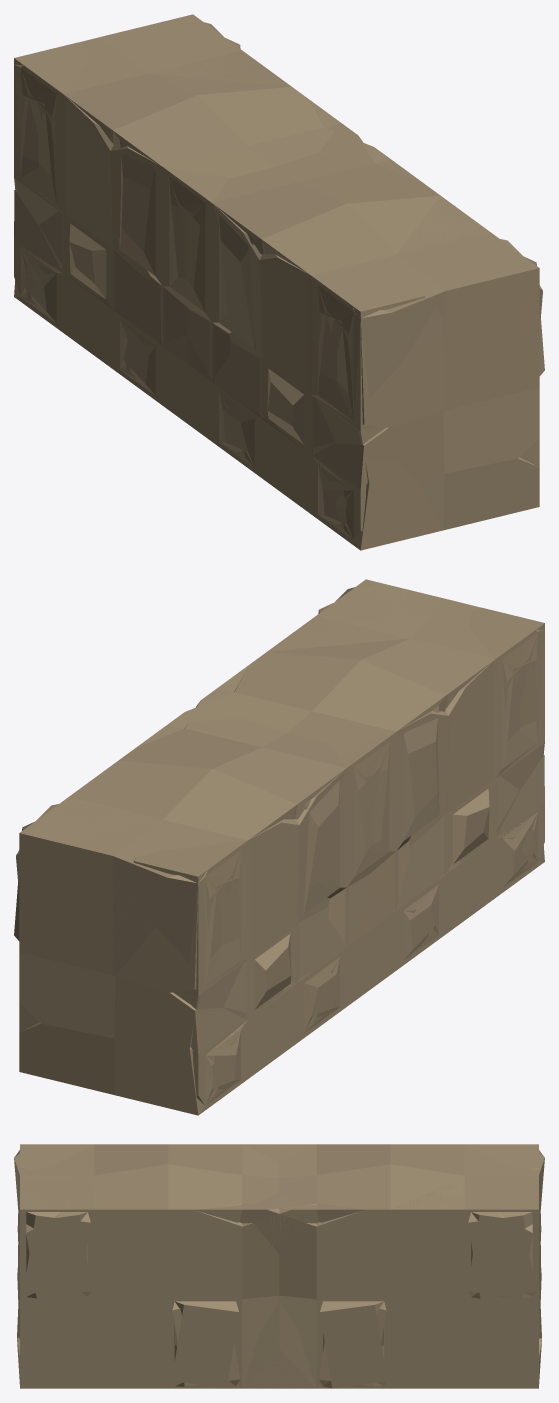
The model's file is wall1.fbx.
The picture shows the model from 3 angles, top to bottom: view 1: azimuth 30°, elevation 25°; view 2: azimuth 150°, elevation 25°; view 3: azimuth 270°, elevation 25°; orthographic projection. The views are drawn at different scales.
Visible parts, largest first — view 1: Cube; view 2: Cube; view 3: Cube.
Boxes of the visible parts, box(x1,y1,x2,y2) form: Cube: box(14, 14, 544, 550); Cube: box(14, 579, 544, 1115); Cube: box(14, 1144, 544, 1388).
Bounding box in the file's own units: 201 × 253 × 641.
